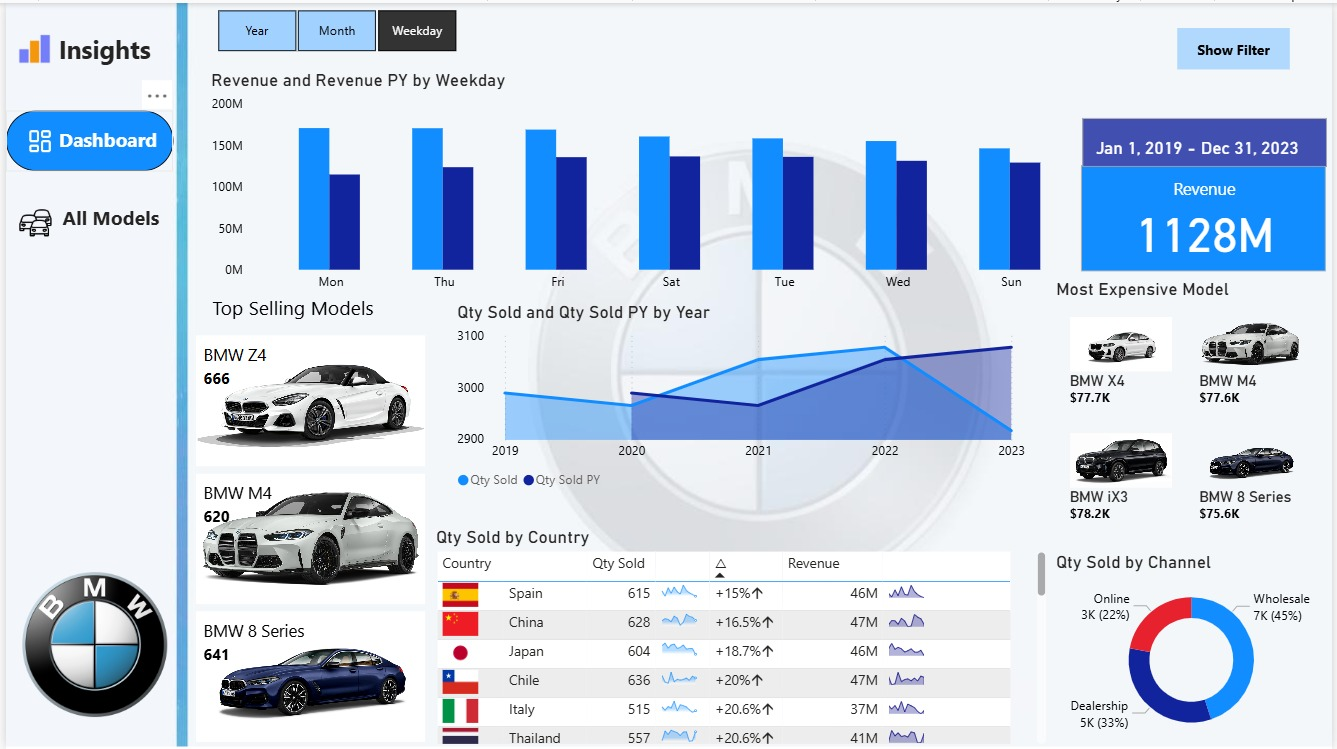

What the dashboard file says about the page in this screenshot:
{"tool":"powerbi","page":{"name":"Dashboard","canvas":[1280,720],"ordinal":0},"visuals":[{"type":"clusteredColumnChart","fields":{"Category":["Calendar.Weekday"],"Y":["All Measures.Revenue","All Measures.Revenue PY"]},"box":[193.5,64.5,857.6,223.7],"z":0},{"type":"slicer","fields":{"Values":["PeriodSlicer.PeriodSlicer"]},"box":[178.4,0,279.9,53.5],"z":1000},{"type":"cardVisual","fields":{"Data":["All Measures.Revenue"]},"box":[1033.3,152.3,247,112.5],"z":2000},{"type":"cardVisual","fields":{"Data":["All Measures.Selected Period"]},"box":[1033.8,106.2,246.2,57.5],"z":3000},{"type":"listSlicer","fields":{"Values":["dimModel.Model"]},"box":[178.9,316.1,231.2,404.4],"z":4000},{"type":"textbox","box":[193.8,276.2,196.2,40],"z":5000},{"type":"advancedSlicerVisual","title":"Most Expensive Model","fields":{"Values":["dimModel.Model"]},"box":[1009.1,265,261.9,253.6],"z":6000},{"type":"donutChart","fields":{"Y":["All Measures.Qty Sold"],"Category":["dimChannel.Channel"]},"box":[1008.8,530,271.2,190],"z":9000},{"type":"tableEx","title":"Qty Sold by Country","fields":{"Values":["dimCountry.Flag","dimCountry.Country","All Measures.Qty Sold","All Measures.Qty Sold Gradient Sparkline","dimCountry.Qty sold Variance % Arrow","All Measures.Revenue","All Measures.Revenue Sparkline"]},"box":[410.2,505.4,598.4,215],"z":10000},{"type":"textbox","box":[0,103.8,161.2,58.8],"z":11000},{"type":"textbox","box":[11.2,190,150,36.2],"z":12000},{"type":"areaChart","fields":{"Category":["Calendar.Year"],"Y":["All Measures.Qty Sold","All Measures.Qty Sold PY"]},"box":[431.1,288.2,557.7,190.6],"z":13000},{"type":"image","box":[11.2,518.8,150,201.2],"z":14000},{"type":"image","box":[11.2,116.2,43.8,35],"z":15000},{"type":"image","box":[2.5,191.2,52.5,41.2],"z":16000},{"type":"actionButton","box":[1130.1,23.9,108.7,40.2],"z":18000},{"type":"actionButton","box":[5.8,189.4,147.6,39.5],"z":20000},{"type":"textbox","box":[45.3,24.4,108.1,51.1],"z":20001},{"type":"image","box":[0,22.1,54.6,43],"z":20002}]}

Visuals, with their boxes on the page's 1280x720 design canvas (x1, y1, x2, y2). These are canvas units, not pixel positions in the 1337x749 screenshot, which may show the page scaled, cropped or inside an application window:
clusteredColumnChart - Calendar.Weekday x All Measures.Revenue: <region>194, 64, 1051, 288</region>
slicer - PeriodSlicer.PeriodSlicer: <region>178, 0, 458, 54</region>
cardVisual - All Measures.Revenue: <region>1033, 152, 1280, 265</region>
cardVisual - All Measures.Selected Period: <region>1034, 106, 1280, 164</region>
listSlicer - dimModel.Model: <region>179, 316, 410, 720</region>
textbox: <region>194, 276, 390, 316</region>
"Most Expensive Model" advancedSlicerVisual: <region>1009, 265, 1271, 519</region>
donutChart - All Measures.Qty Sold x dimChannel.Channel: <region>1009, 530, 1280, 720</region>
"Qty Sold by Country" tableEx: <region>410, 505, 1009, 720</region>
textbox: <region>0, 104, 161, 163</region>
textbox: <region>11, 190, 161, 226</region>
areaChart - Calendar.Year x All Measures.Qty Sold: <region>431, 288, 989, 479</region>
image: <region>11, 519, 161, 720</region>
image: <region>11, 116, 55, 151</region>
image: <region>2, 191, 55, 232</region>
actionButton: <region>1130, 24, 1239, 64</region>
actionButton: <region>6, 189, 153, 229</region>
textbox: <region>45, 24, 153, 76</region>
image: <region>0, 22, 55, 65</region>
